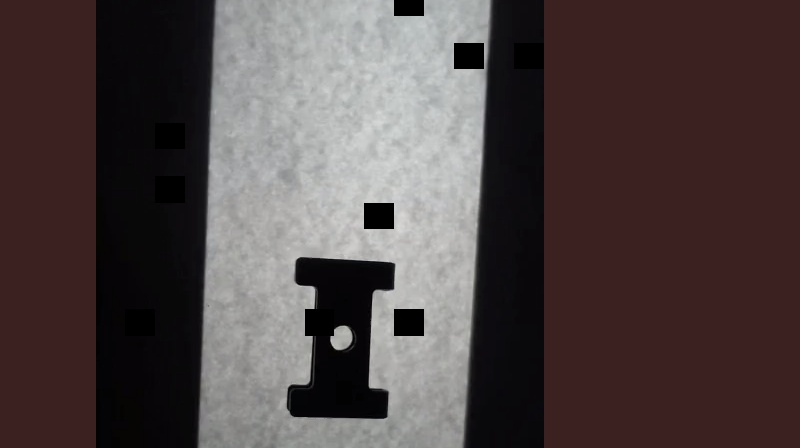O002: (284, 255, 400, 423)
